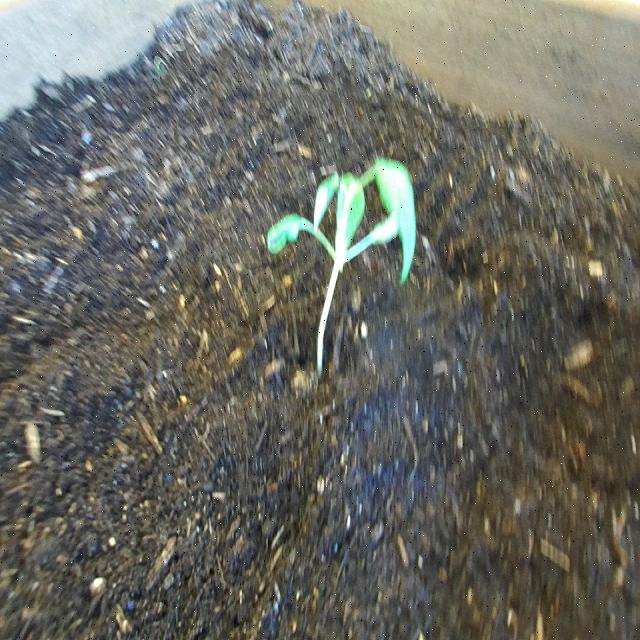Healthy: (264, 153, 418, 388)
